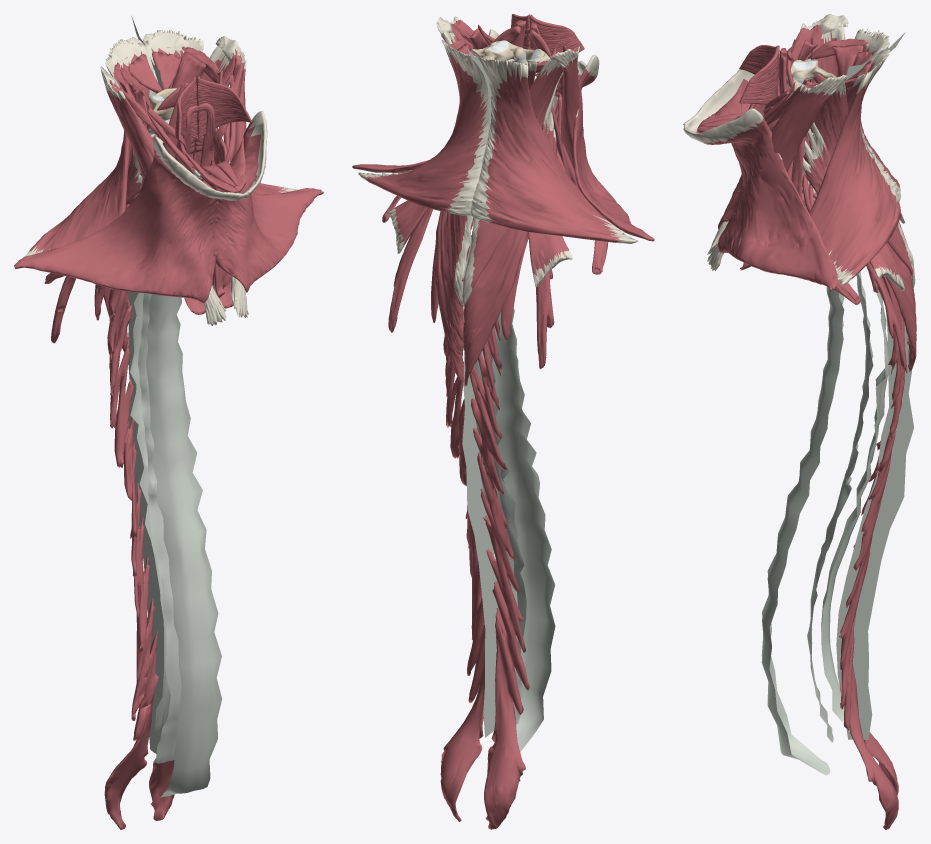
The model's file is neck.glb.
3 views of the same model, side by side, from view 1: azimuth 30°, elevation 25°; view 2: azimuth 150°, elevation 25°; view 3: azimuth 270°, elevation 25° (orthographic). The views are drawn at different scales.
Visible parts, largest first — view 1: za-a3e8f6d97e3a, za-981cc629c912, za-6c12c4f108a2, za-8329b91f3f66, za-d3d9ed7aa281, za-70cdd4466a0d, za-cdcd714581b8, za-d5b4d41410d0, za-93a28e6cad4a, za-9e9faf1f240b, za-5dd3774f022d, za-1216a7f2f619 (+9 smaller); view 2: za-70cdd4466a0d, za-6c12c4f108a2, za-a3e8f6d97e3a, za-03d11aa52a6f, za-1216a7f2f619, za-cdcd714581b8, za-5879425ffa9d, za-981cc629c912, za-4761270a220b, za-6d57fcfb776c, za-6fedeb710370, za-d3d9ed7aa281 (+10 smaller); view 3: za-8329b91f3f66, za-03d11aa52a6f, za-cdcd714581b8, za-a3e8f6d97e3a, za-1216a7f2f619, za-d5b4d41410d0, za-5dd3774f022d, za-d3d9ed7aa281, za-2f540439b2b3, za-bc99b34153b2, za-981cc629c912, za-4761270a220b (+12 smaller).
Boxes of the visible parts, x1,y1,x2,y2 form: za-a3e8f6d97e3a: (146, 294, 221, 797); za-981cc629c912: (14, 136, 243, 302); za-6c12c4f108a2: (104, 288, 158, 829); za-8329b91f3f66: (213, 111, 323, 292); za-d3d9ed7aa281: (138, 293, 181, 763); za-70cdd4466a0d: (23, 37, 155, 257); za-cdcd714581b8: (128, 291, 164, 753); za-d5b4d41410d0: (130, 293, 170, 736); za-93a28e6cad4a: (100, 66, 226, 325); za-9e9faf1f240b: (196, 76, 251, 138); za-5dd3774f022d: (215, 36, 248, 317); za-1216a7f2f619: (149, 760, 174, 820); za-70cdd4466a0d: (468, 57, 638, 243); za-6c12c4f108a2: (470, 318, 529, 829); za-a3e8f6d97e3a: (492, 59, 555, 751); za-03d11aa52a6f: (358, 44, 491, 215); za-1216a7f2f619: (440, 220, 485, 821); za-cdcd714581b8: (462, 217, 497, 737); za-5879425ffa9d: (463, 227, 528, 386); za-981cc629c912: (557, 55, 654, 241); za-4761270a220b: (434, 56, 477, 385); za-6d57fcfb776c: (462, 54, 572, 305); za-6fedeb710370: (528, 76, 572, 286); za-d3d9ed7aa281: (484, 354, 526, 723); za-8329b91f3f66: (683, 108, 837, 290); za-03d11aa52a6f: (809, 49, 900, 284); za-cdcd714581b8: (836, 254, 913, 739); za-a3e8f6d97e3a: (761, 95, 844, 775); za-1216a7f2f619: (839, 315, 905, 829); za-d5b4d41410d0: (821, 289, 889, 721); za-5dd3774f022d: (707, 74, 848, 270); za-d3d9ed7aa281: (807, 271, 873, 742); za-2f540439b2b3: (802, 122, 905, 290); za-bc99b34153b2: (814, 81, 915, 288); za-981cc629c912: (683, 69, 754, 229); za-4761270a220b: (809, 127, 916, 371).
Bounding box in the file's own units: 0.2824 × 0.7023 × 0.188.
